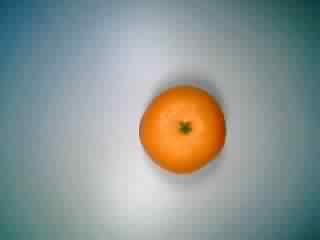orange: (130, 77, 229, 176)
